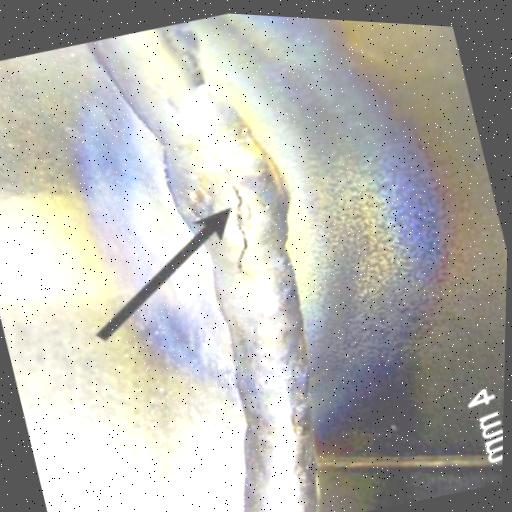crack: (207, 149, 257, 272)
